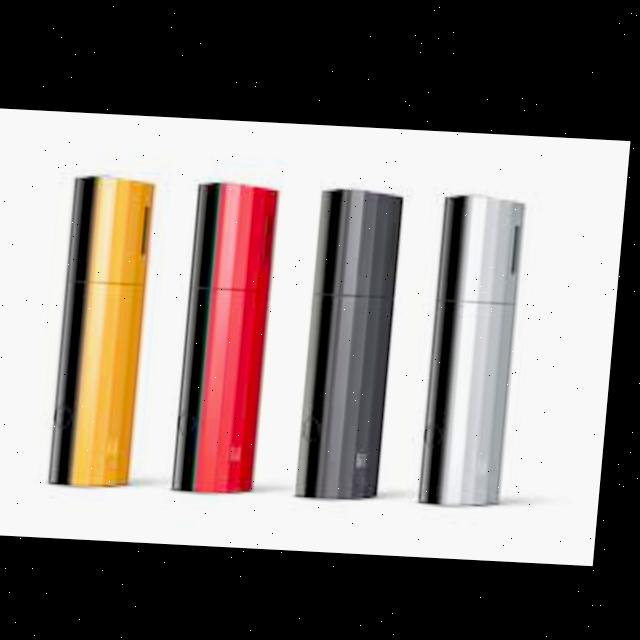vape: (179, 177, 285, 494), (303, 183, 409, 498), (425, 188, 531, 503), (56, 172, 161, 485)
